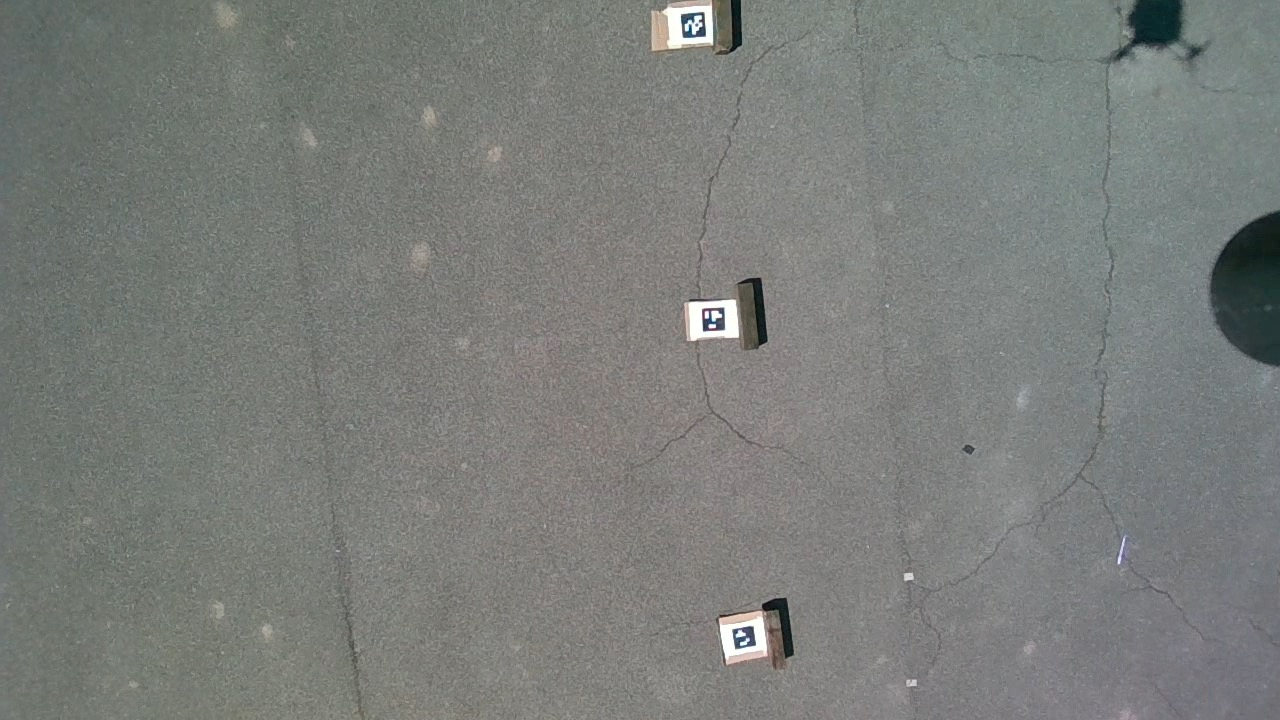probes: (1117, 535, 1127, 565)
